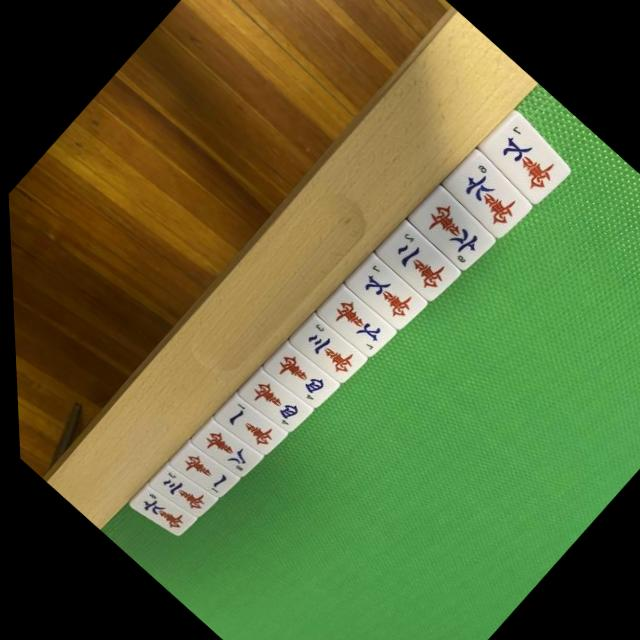sc1: (218, 399, 274, 451), (175, 448, 226, 496)
sc2: (381, 227, 454, 296)
sc3: (296, 320, 359, 380), (153, 468, 205, 516)
sc4: (240, 372, 304, 431), (268, 346, 328, 404)
sc6: (450, 159, 526, 231), (416, 196, 491, 268), (133, 488, 183, 535)
sc7: (487, 122, 565, 196), (321, 290, 390, 356), (351, 258, 420, 324)
sc8: (195, 423, 252, 478)
